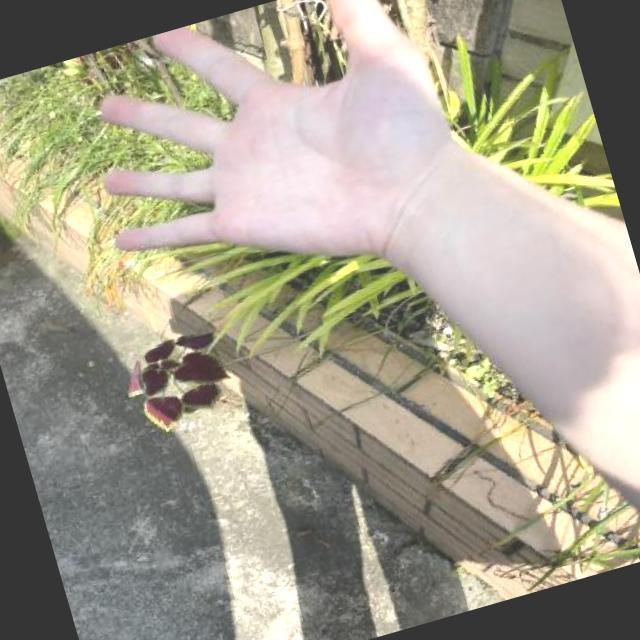hand: (44, 0, 496, 347)
